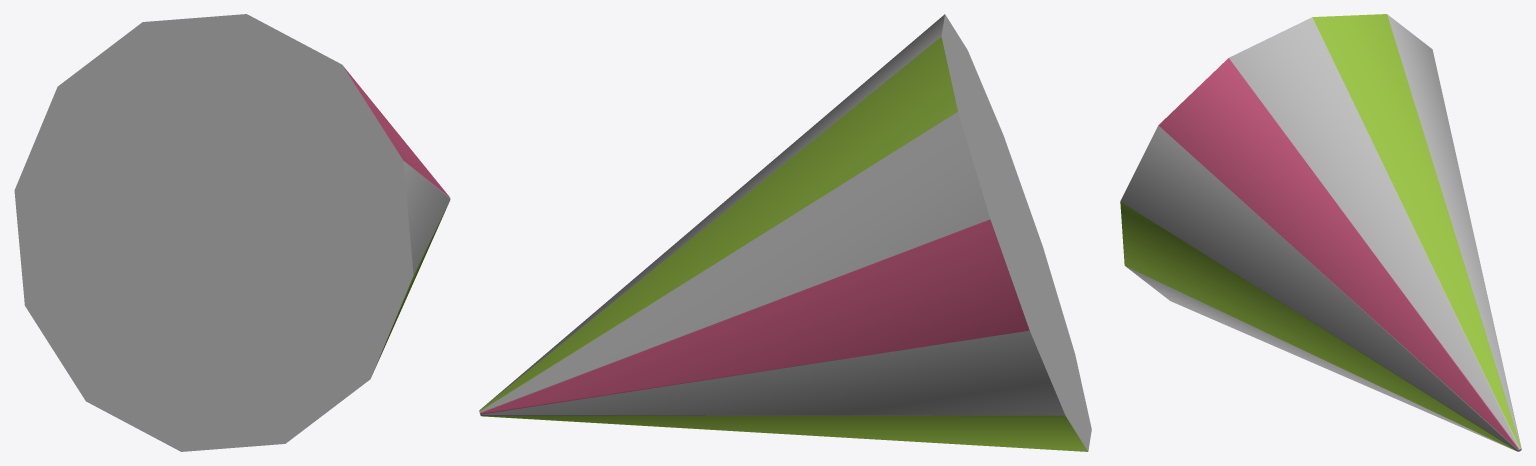
File: partyHat.fbx
The picture shows the model from 3 angles, left to right: view 1: azimuth 30°, elevation 25°; view 2: azimuth 150°, elevation 25°; view 3: azimuth 270°, elevation 25°; orthographic projection. The views are drawn at different scales.
Visible parts, largest first — view 1: partyHat; view 2: partyHat; view 3: partyHat.
Boxes of the visible parts, x1=… form: partyHat: x1=14, y1=14, x2=450, y2=451; partyHat: x1=479, y1=14, x2=1091, y2=451; partyHat: x1=1120, y1=14, x2=1521, y2=451.
Bounding box in the file's own units: 0.7162 × 0.5288 × 0.5929.
